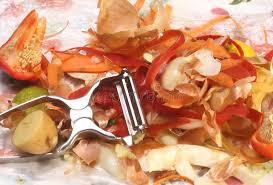Organic: (3, 2, 273, 185)
